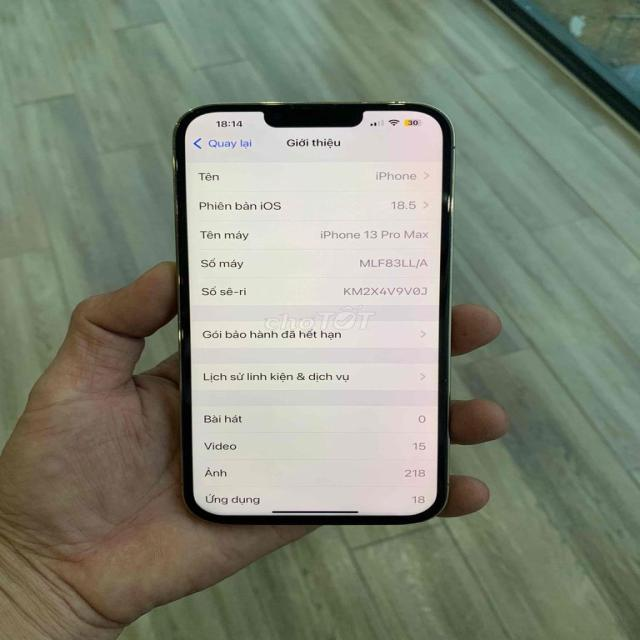gen_12_13: (170, 99, 452, 528)
